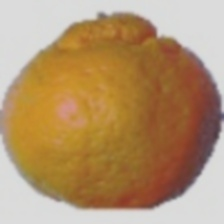tangerine: (44, 48, 196, 203)
